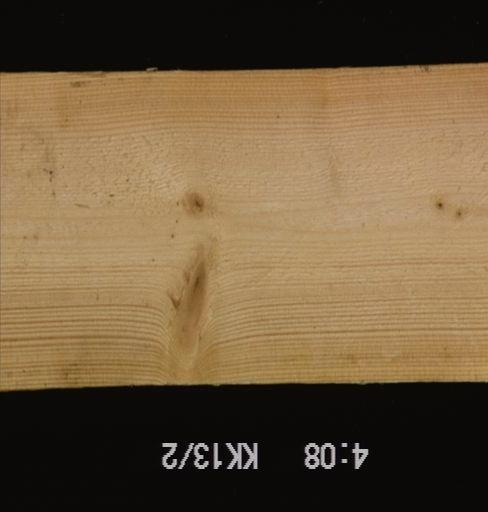small_knot: (433, 199, 445, 211), (454, 207, 465, 220)
sound_knot: (181, 188, 209, 219)
